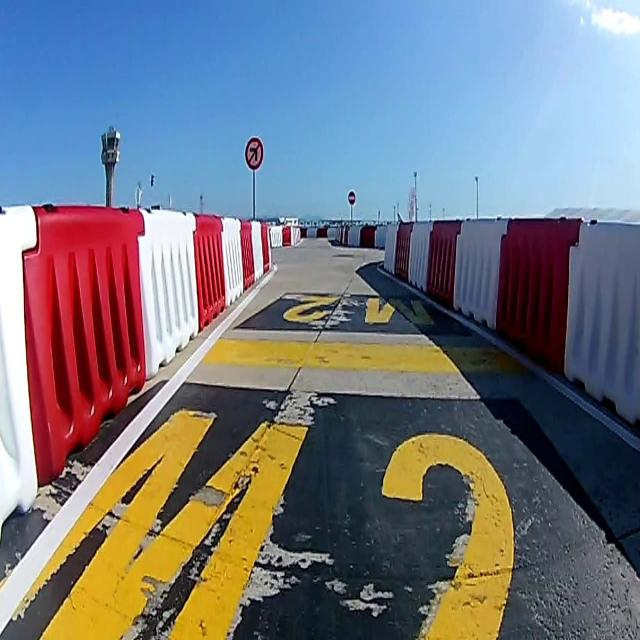girisyok: (348, 190, 356, 206)
soladonulmez: (244, 138, 264, 170)
